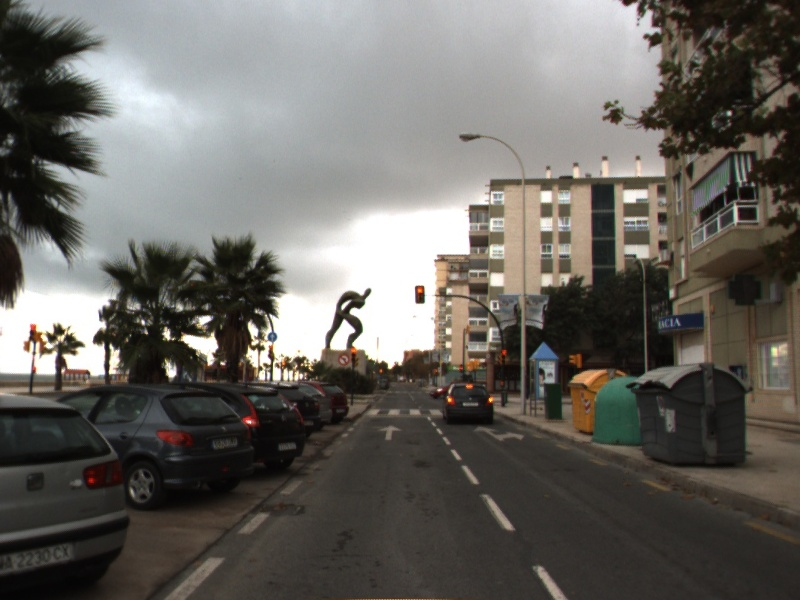STRAIGHT: (377, 424, 404, 442)
STRAIGHT_RIGHT: (472, 424, 526, 443)
